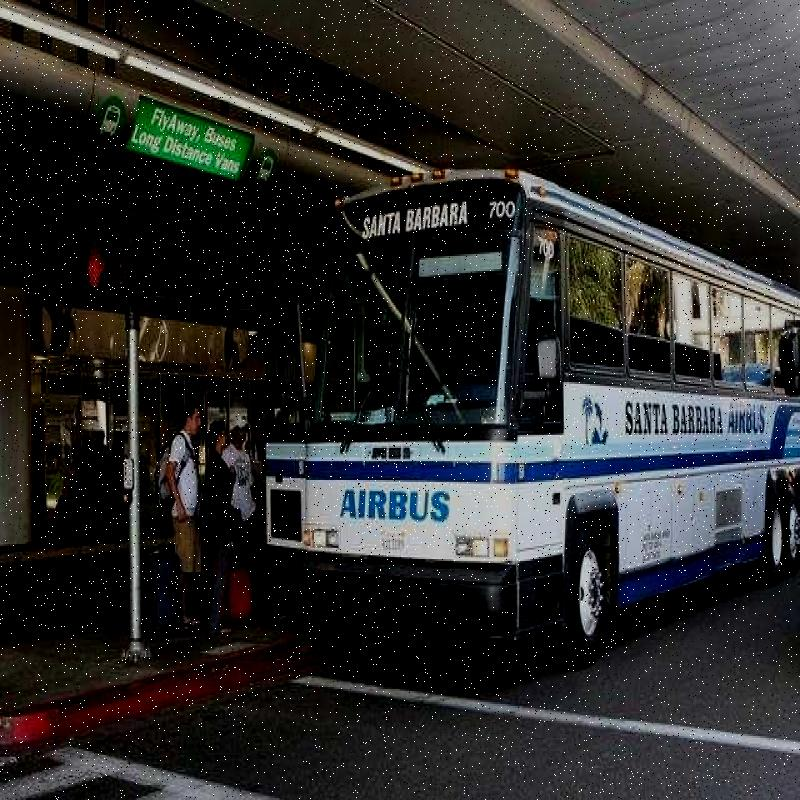bus: (250, 162, 800, 670)
